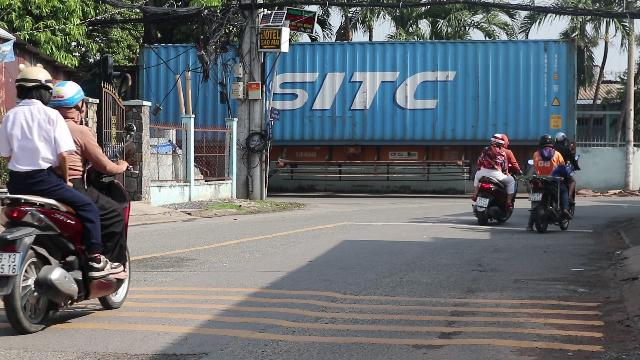helmet: (12, 64, 52, 106), (48, 80, 86, 122), (538, 133, 554, 149)
licenseplate: (530, 194, 542, 200)
motorcyclist: (1, 62, 138, 330), (524, 132, 576, 232)
